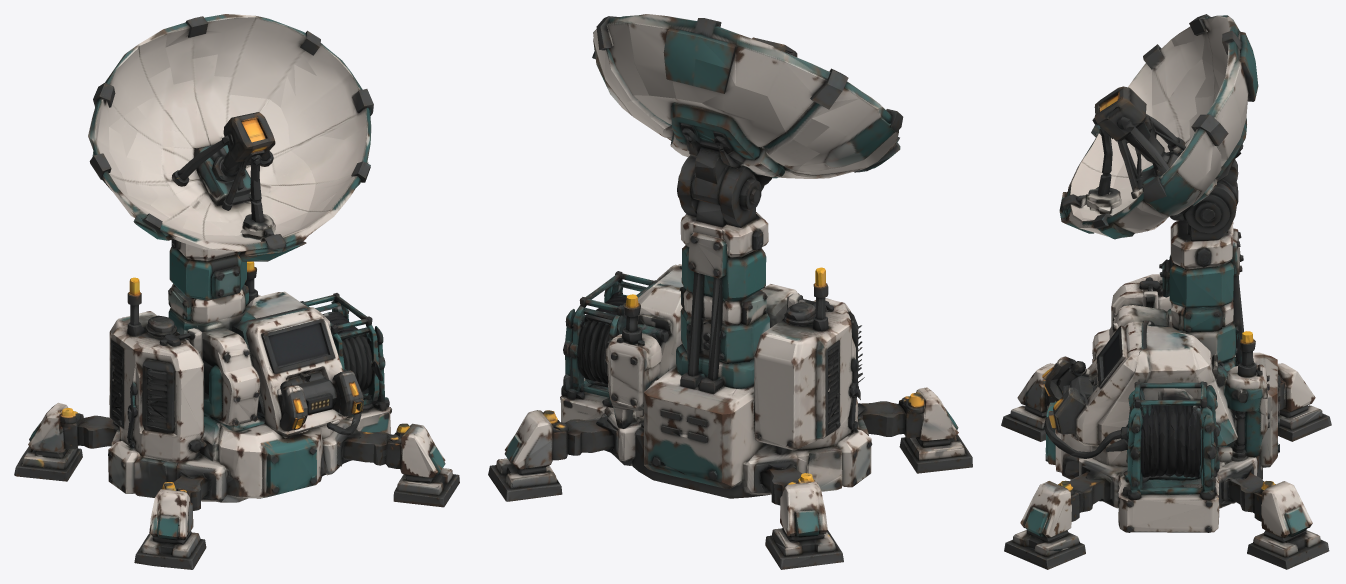
The model's file is Meshy_AI_Satellite_Receiver_St_1023222045_texture.fbx.
3 views of the same model, side by side, from view 1: azimuth 30°, elevation 25°; view 2: azimuth 150°, elevation 25°; view 3: azimuth 270°, elevation 25° (orthographic). The views are drawn at different scales.
Parts seen in each view (by area): view 1: output_unwrapped; view 2: output_unwrapped; view 3: output_unwrapped.
Boxes of the visible parts, left/top/right/bottom form: output_unwrapped: left=14, top=14, right=459, bottom=569; output_unwrapped: left=488, top=14, right=972, bottom=569; output_unwrapped: left=1001, top=14, right=1331, bottom=569.
Bounding box in the file's own units: 148 × 190 × 127.
Materials: 1 (1 with a texture image).
